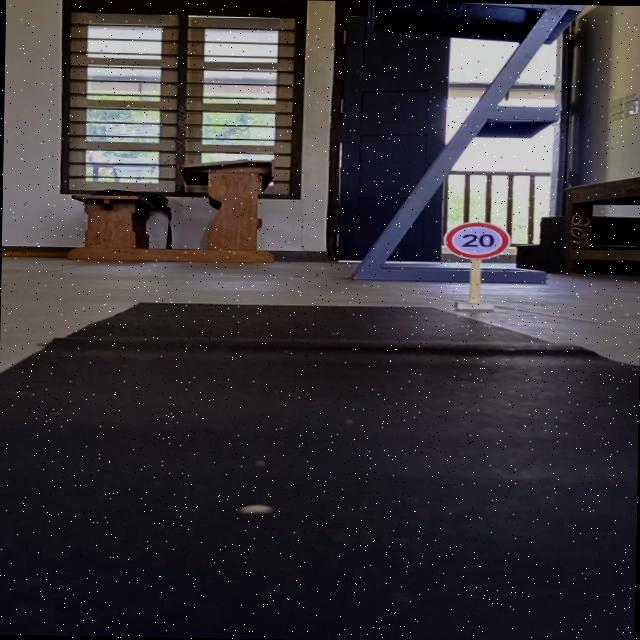Speed20: (438, 218, 514, 262)
